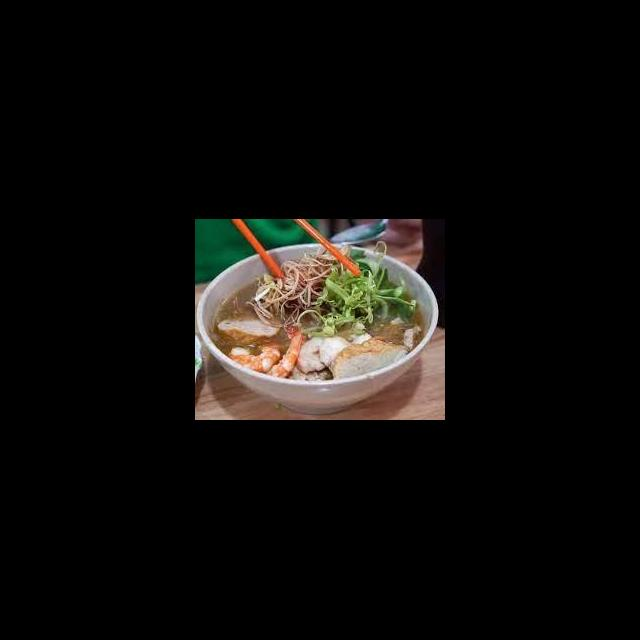tom: (260, 322, 305, 380), (226, 336, 283, 376)
